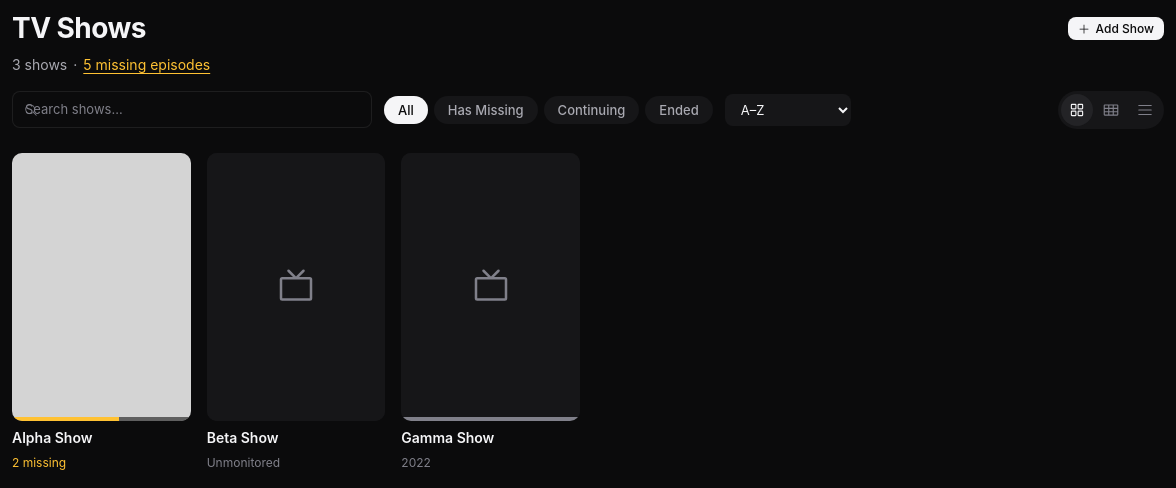
Test: clicking the amber missing count presses Has Missing and persists shows.filter
Click the button "5 missing episodes": (147, 64) left=83, top=54, right=210, bottom=75
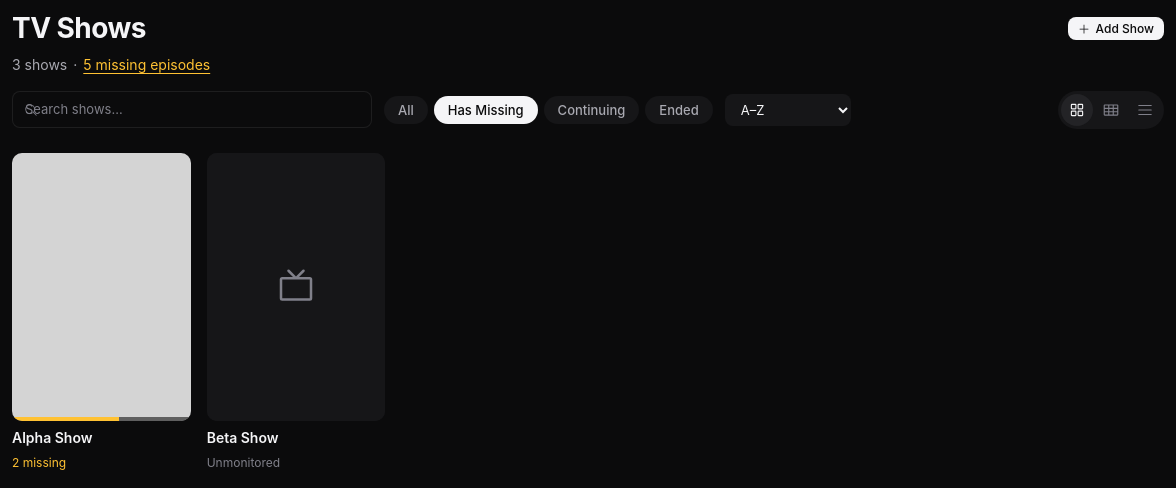
Check: the link "Gamma Show" is gone
